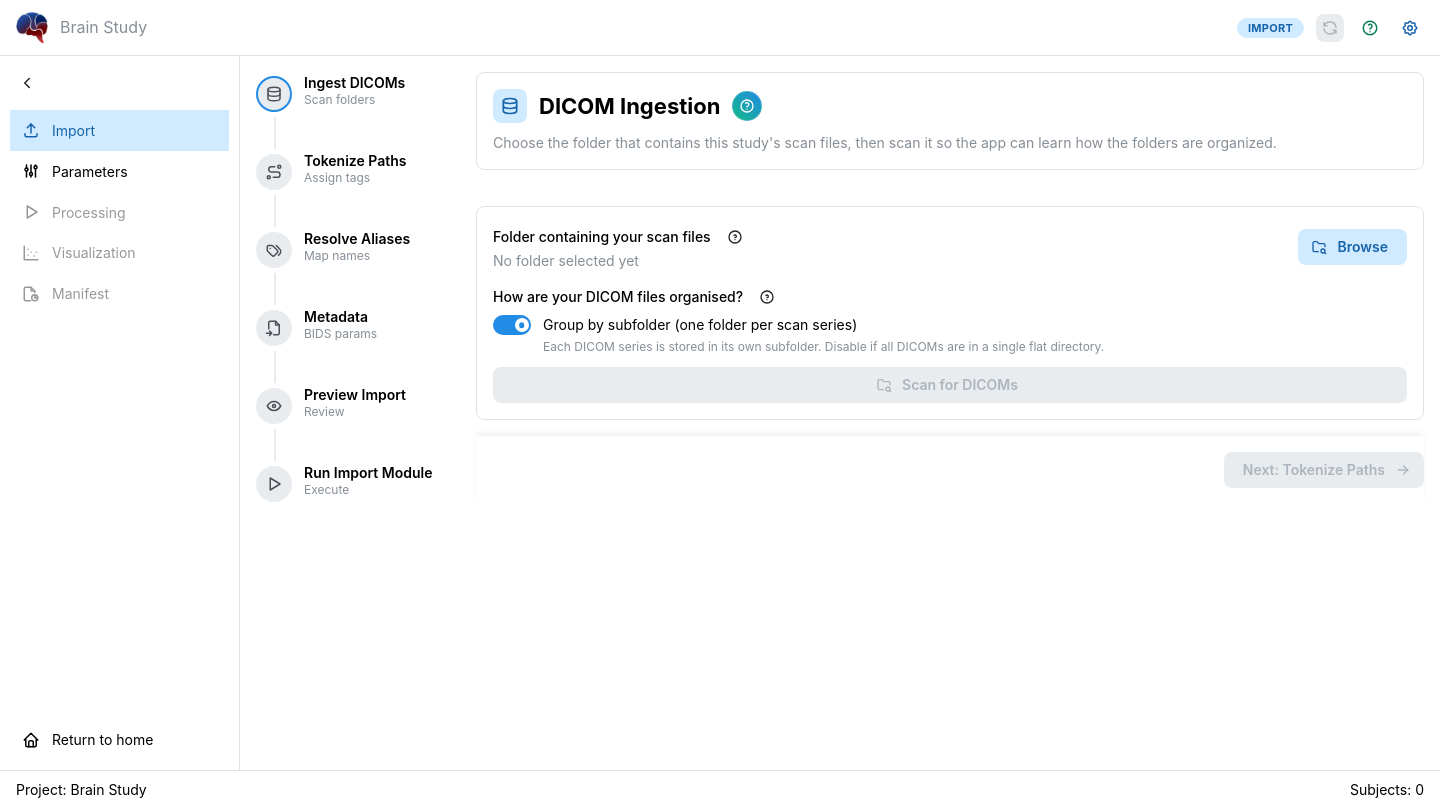
Test: Layout › collapses navbar when toggle is clicked while expanded
Expected: the text "Import" is shown, left=52, top=122, right=95, bottom=139
Click the button with test id "layout-navbar-toggle": (27, 83) left=10, top=66, right=44, bottom=100
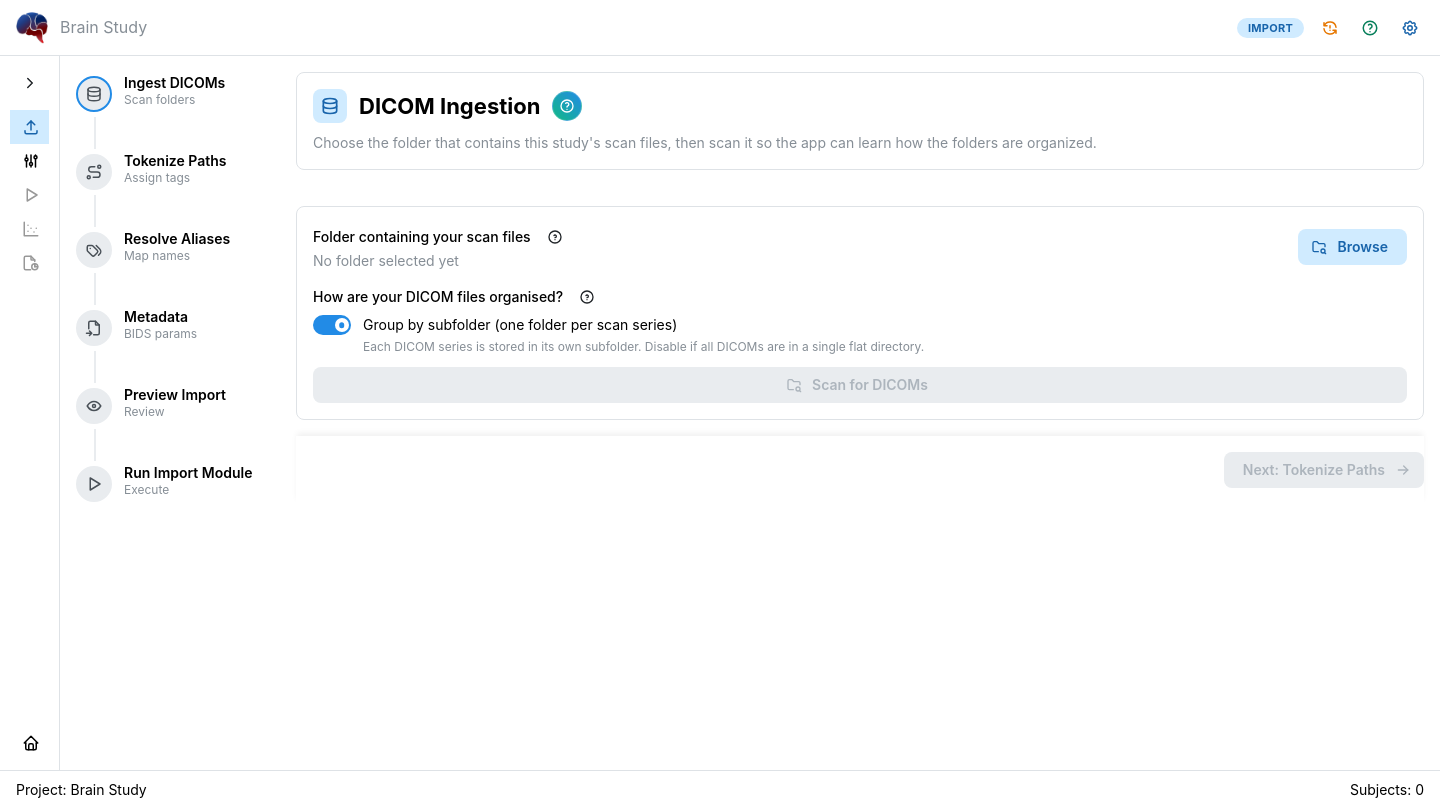
Expected: the button "Return to home" is gone
